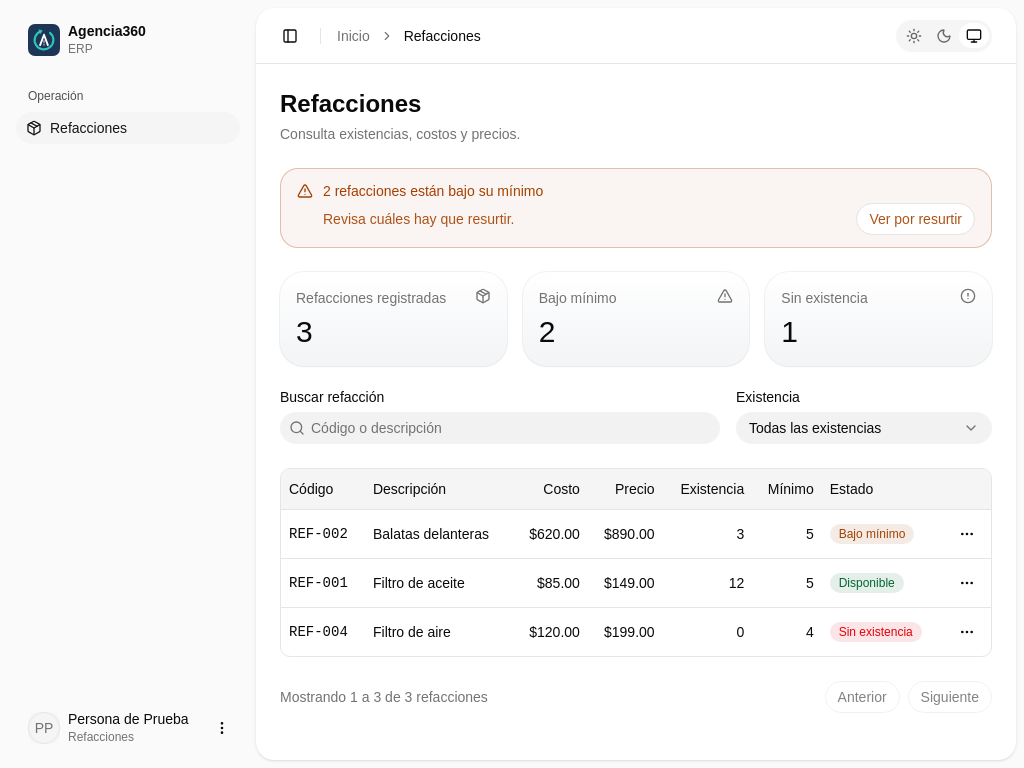
Inventario de refacciones › Refacciones y el Administrador solo consultan
Click the button named "Acciones de REF-001".
click(967, 582)  # box [951,566,983,598]
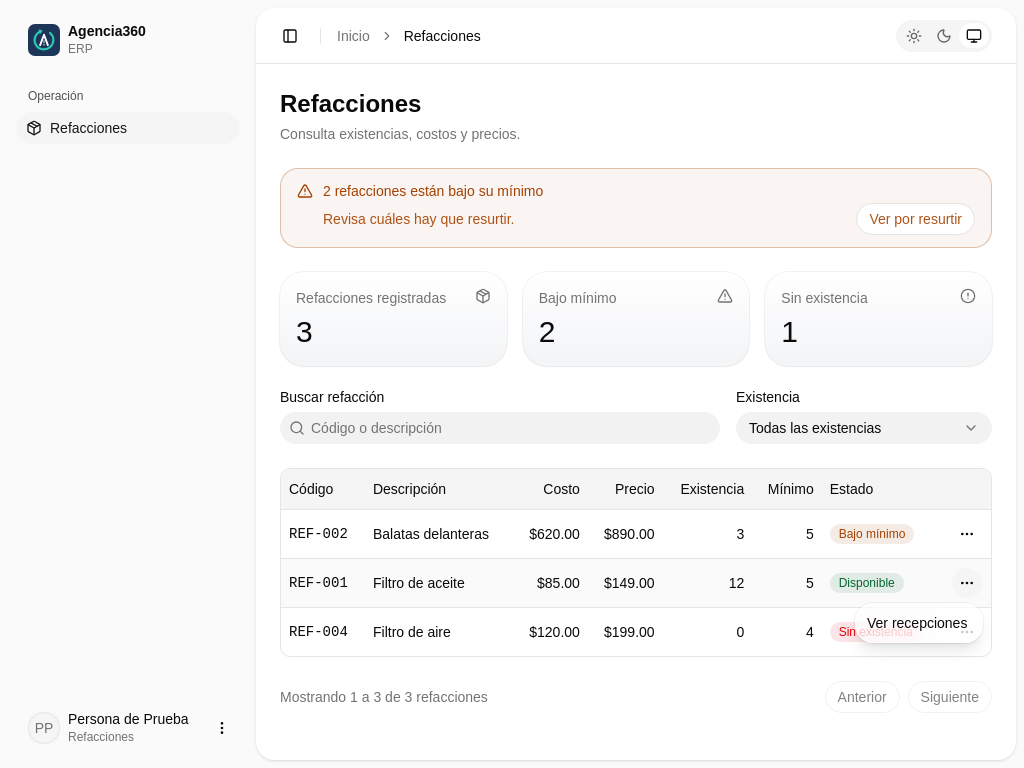
Now the menu item "Ver recepciones" is shown, box [867,615,967,631]
